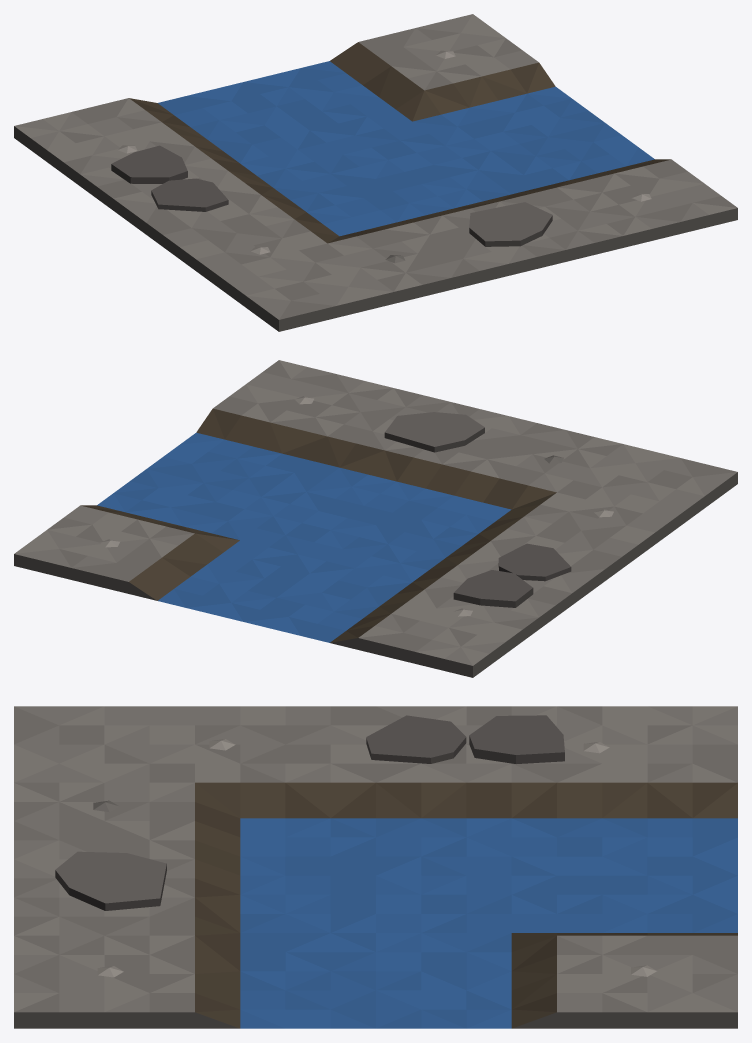
Rendered from river_bend_rock.glb.
3 renders of one model, top to bottom at view 1: azimuth 30°, elevation 25°; view 2: azimuth 150°, elevation 25°; view 3: azimuth 270°, elevation 25°, orthographic. The views are drawn at different scales.
Parts seen in each view (by area): view 1: river_bend_rock; view 2: river_bend_rock; view 3: river_bend_rock.
Boxes of the visible parts, x1=… form: river_bend_rock: x1=14, y1=14, x2=737, y2=331; river_bend_rock: x1=14, y1=360, x2=737, y2=677; river_bend_rock: x1=14, y1=706, x2=737, y2=1028.
Size of the model in its own units: 4 by 0.1555 by 4.
